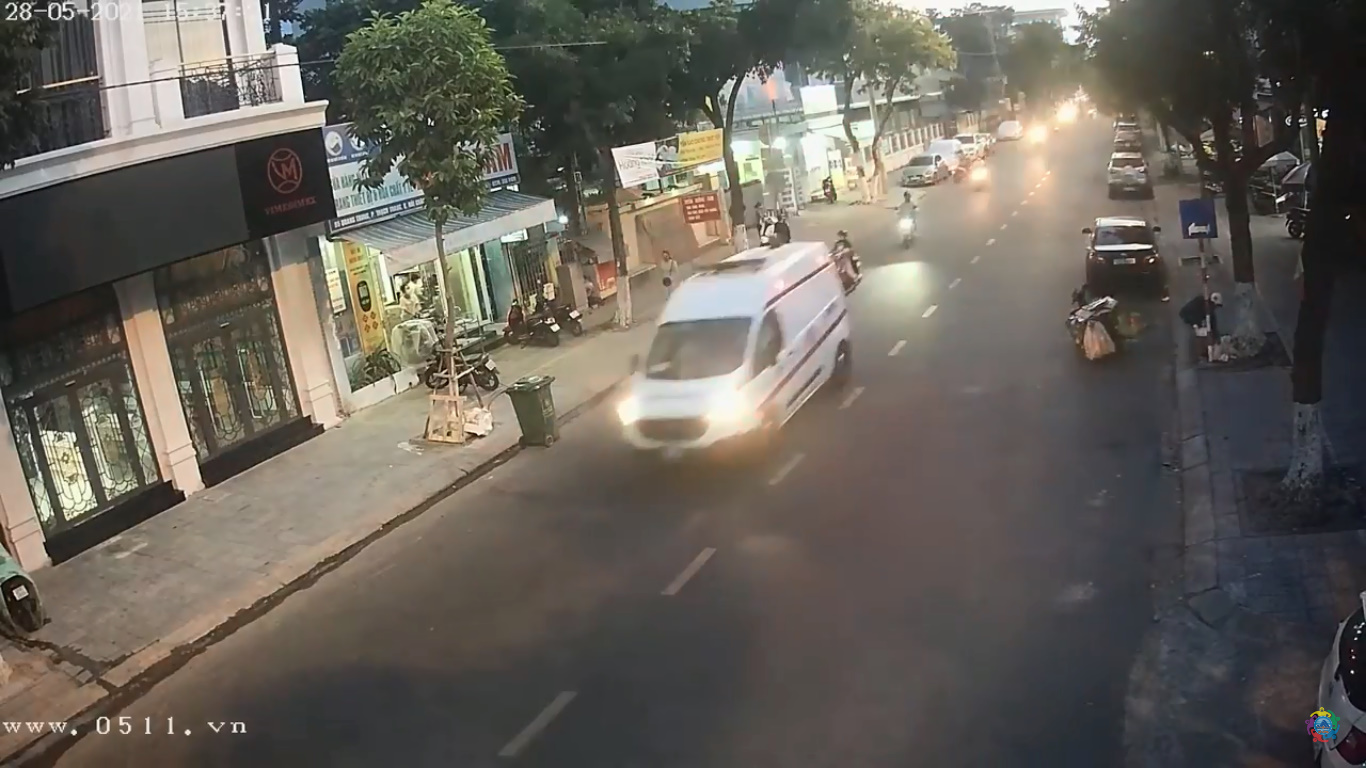car: (615, 245, 859, 459)
